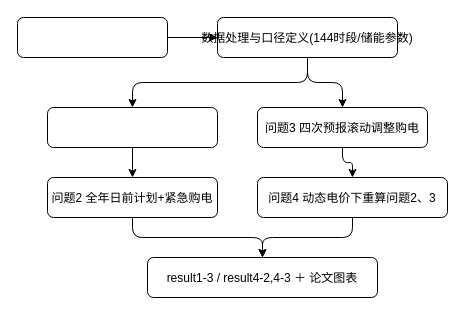
Some shapes in this 465 by 315 pixel diagram are drawn without their labels. Here are the shapes that lost their labels. From the top down, the centre of each, then its label:
At (x=92, y=37): "附件数据 (附件1-4)".
At (x=132, y=127): "问题1 单日确定性日前计划 LP".
